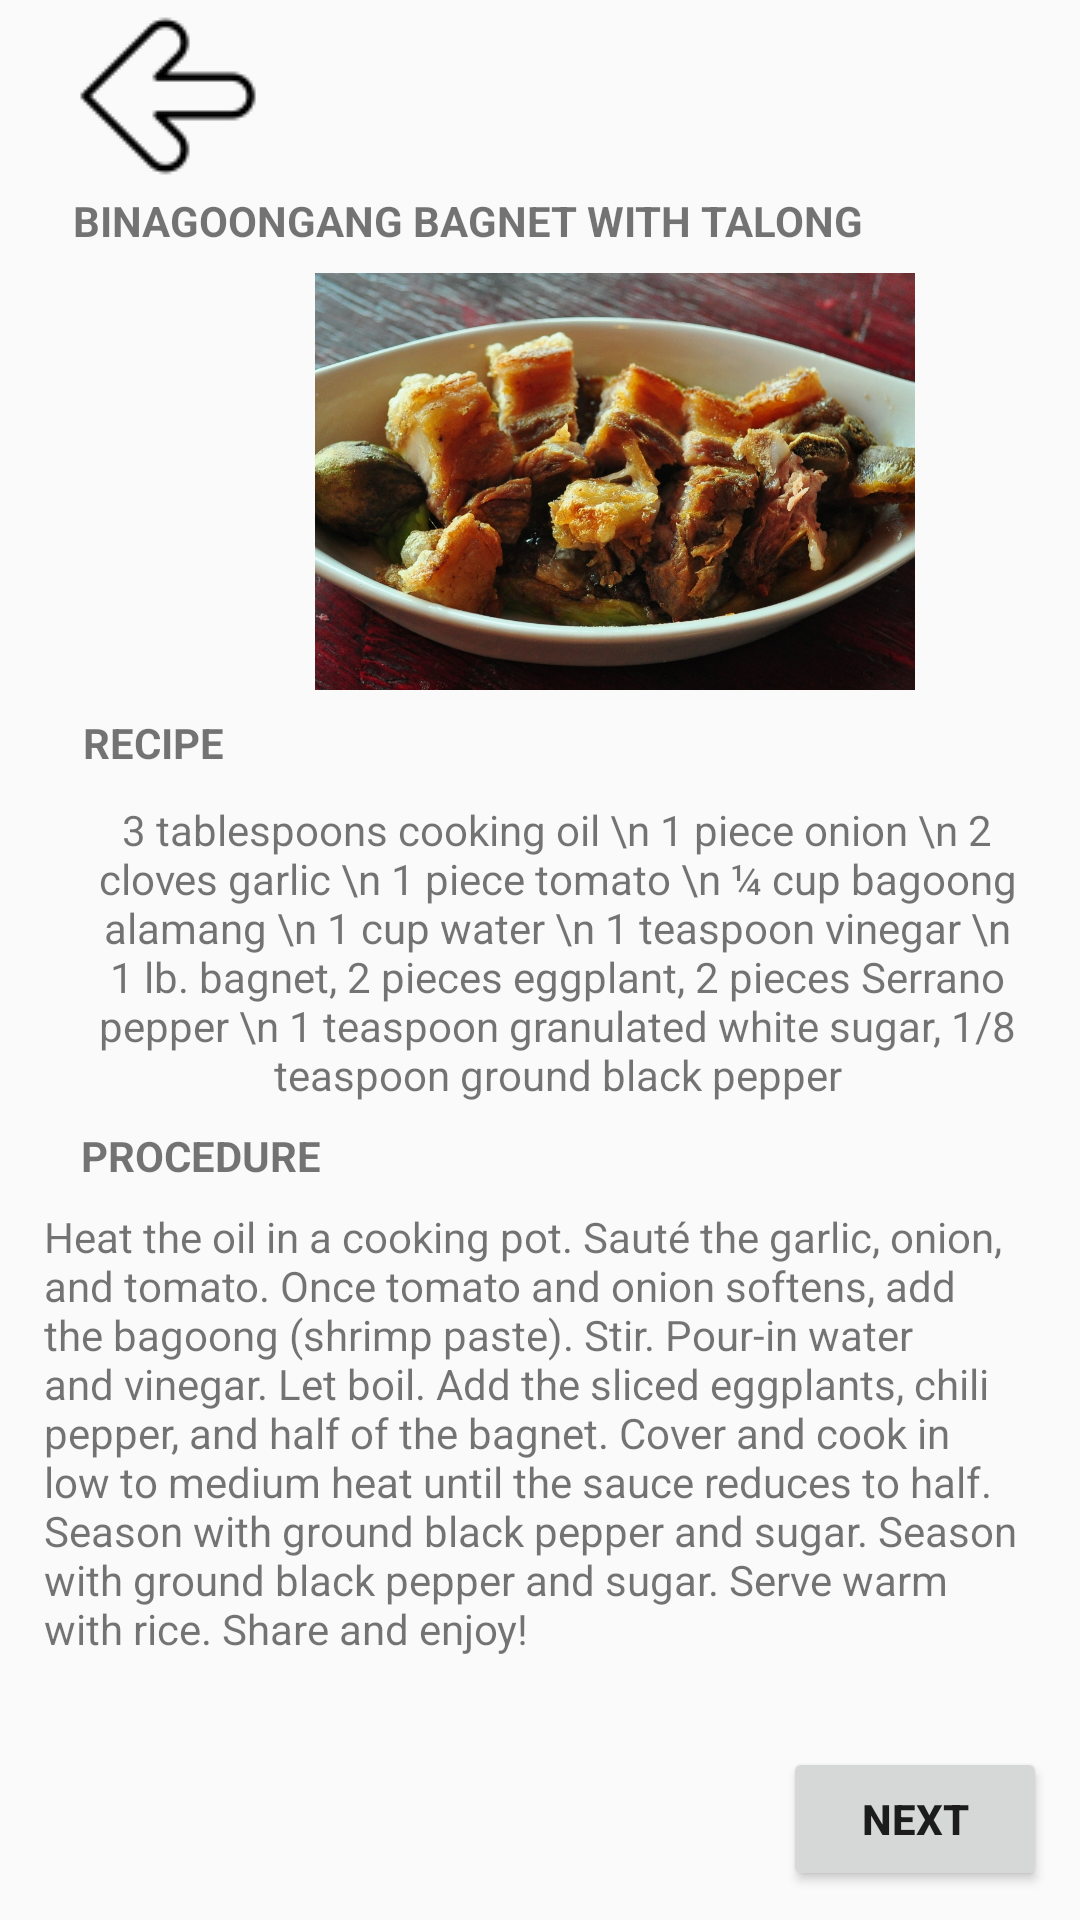

Where to tap for icons on this 1080px×1920px app screen, as (x,y):
back: (168,96)
